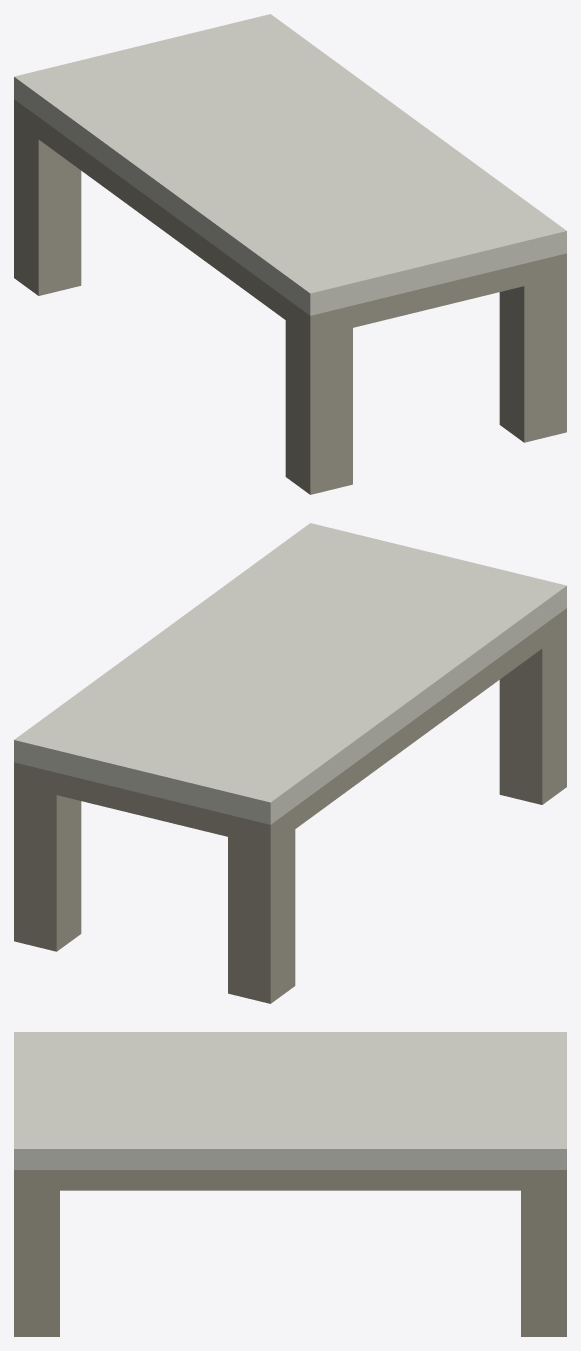
The model's file is encimera_abedul_01.glb.
3 views of the same model, one above another, from view 1: azimuth 30°, elevation 25°; view 2: azimuth 150°, elevation 25°; view 3: azimuth 270°, elevation 25° (orthographic). The views are drawn at different scales.
Visible parts, largest first — view 1: encimera_abedul; view 2: encimera_abedul; view 3: encimera_abedul.
Boxes of the visible parts, <box> form: encimera_abedul: <box>14,14,566,494</box>; encimera_abedul: <box>14,523,566,1003</box>; encimera_abedul: <box>14,1032,566,1336</box>.
Size of the model in its own units: 1 by 0.75 by 2.
